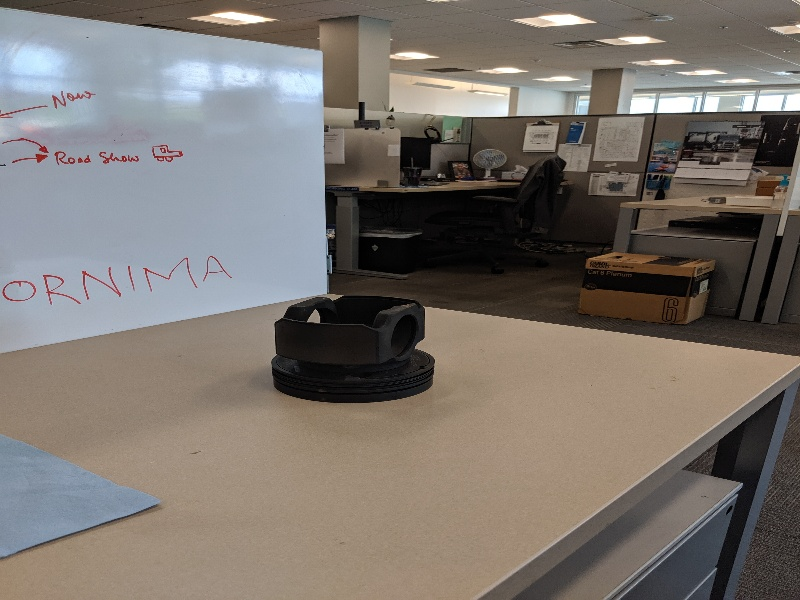piston: (271, 272, 442, 416)
